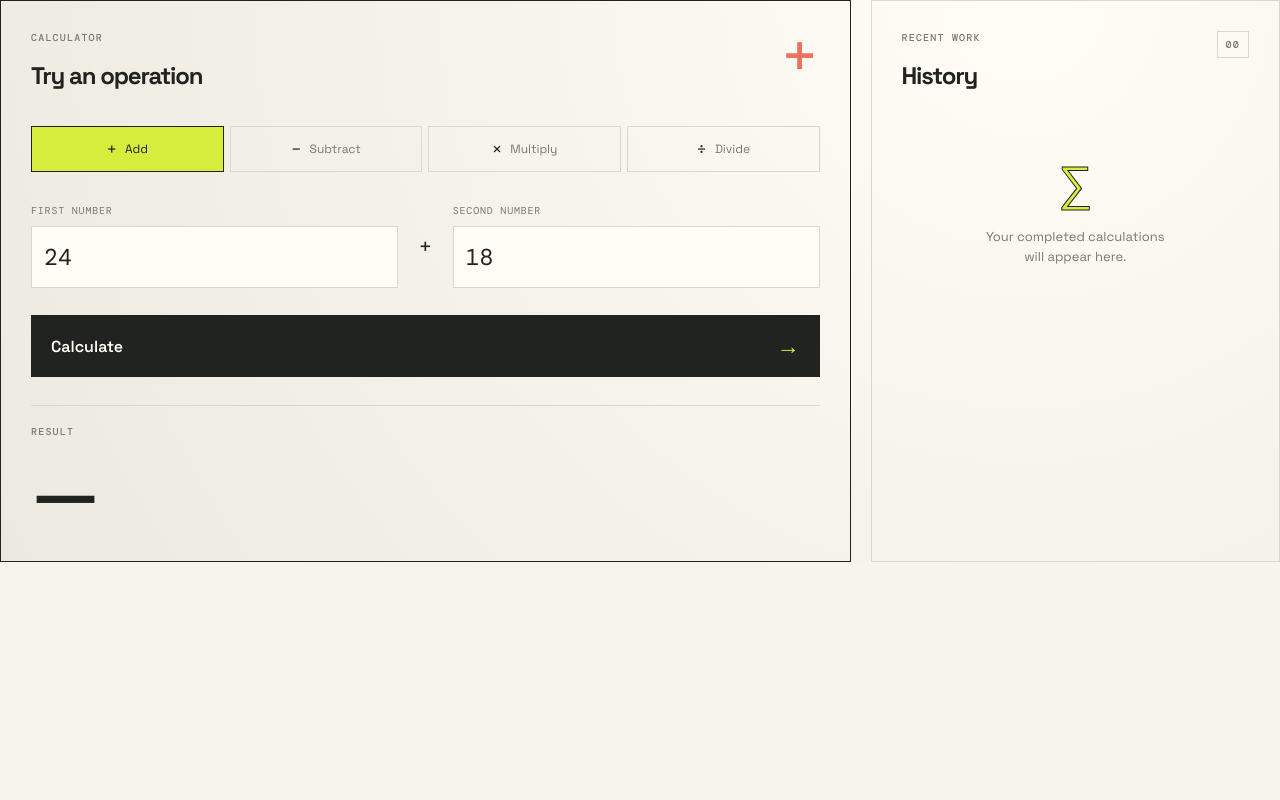
Test: Calculator › calculates multiplication successfully
This screenshot has width=1280, height=800.
Step 1. Click the tab "× Multiply" → (525, 149), box [428, 126, 621, 172]
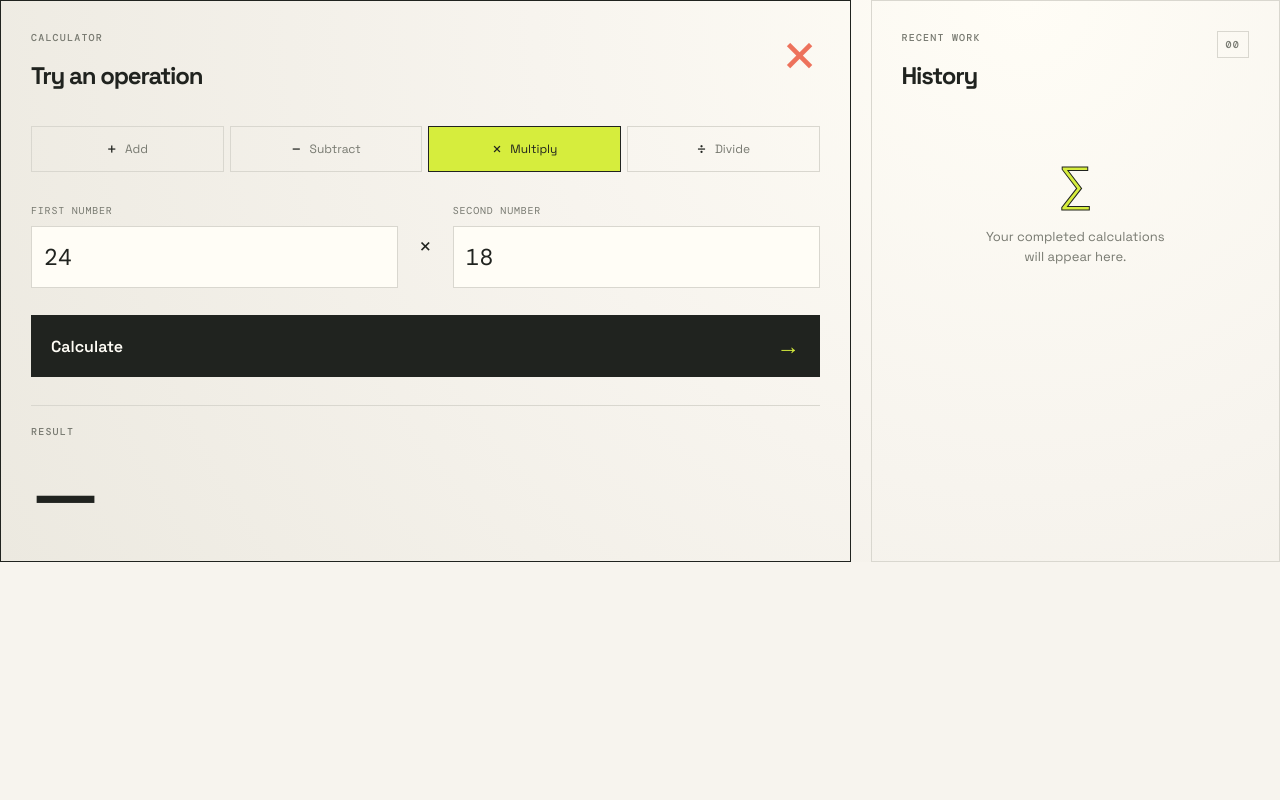
Step 2. Replace the text in the field labelled "First number" with "4" → (214, 257), box [31, 226, 398, 288]
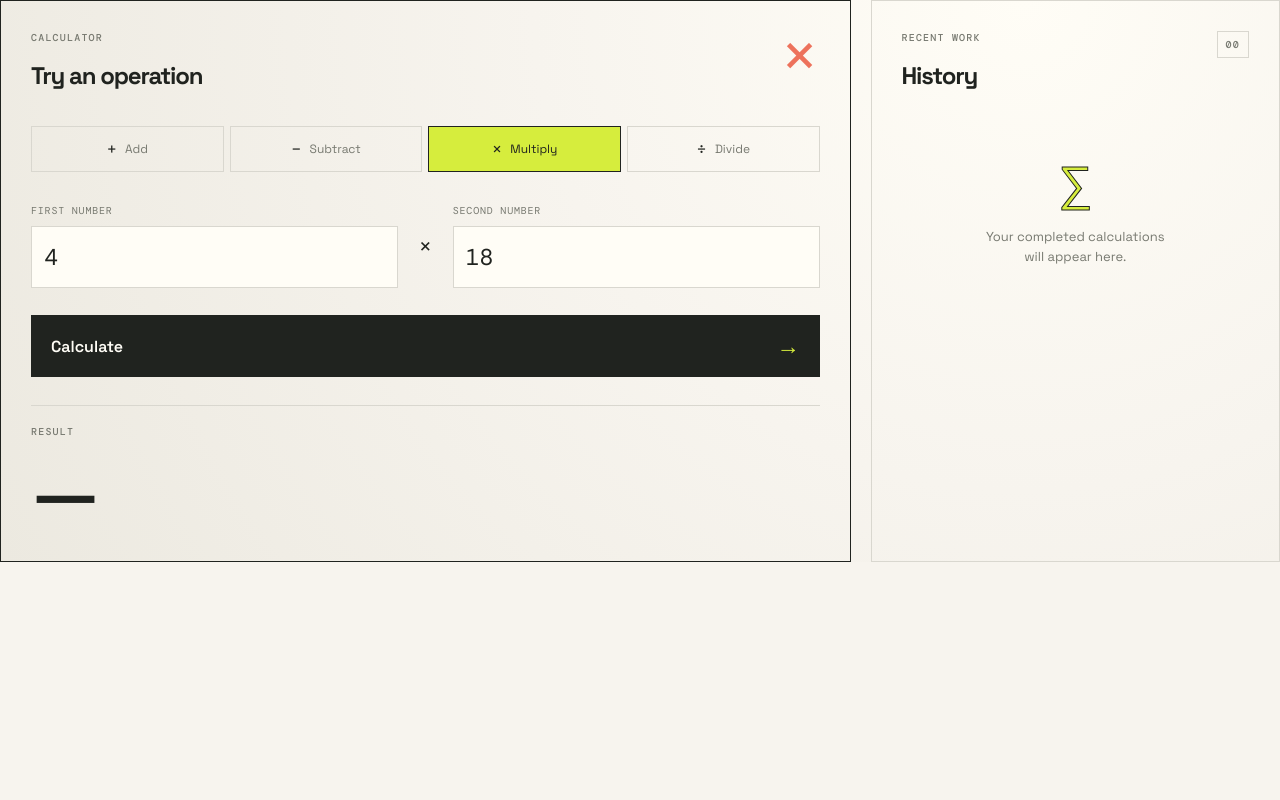
Step 3. Replace the text in the field labelled "Second number" with "3" → (636, 257), box [453, 226, 820, 288]
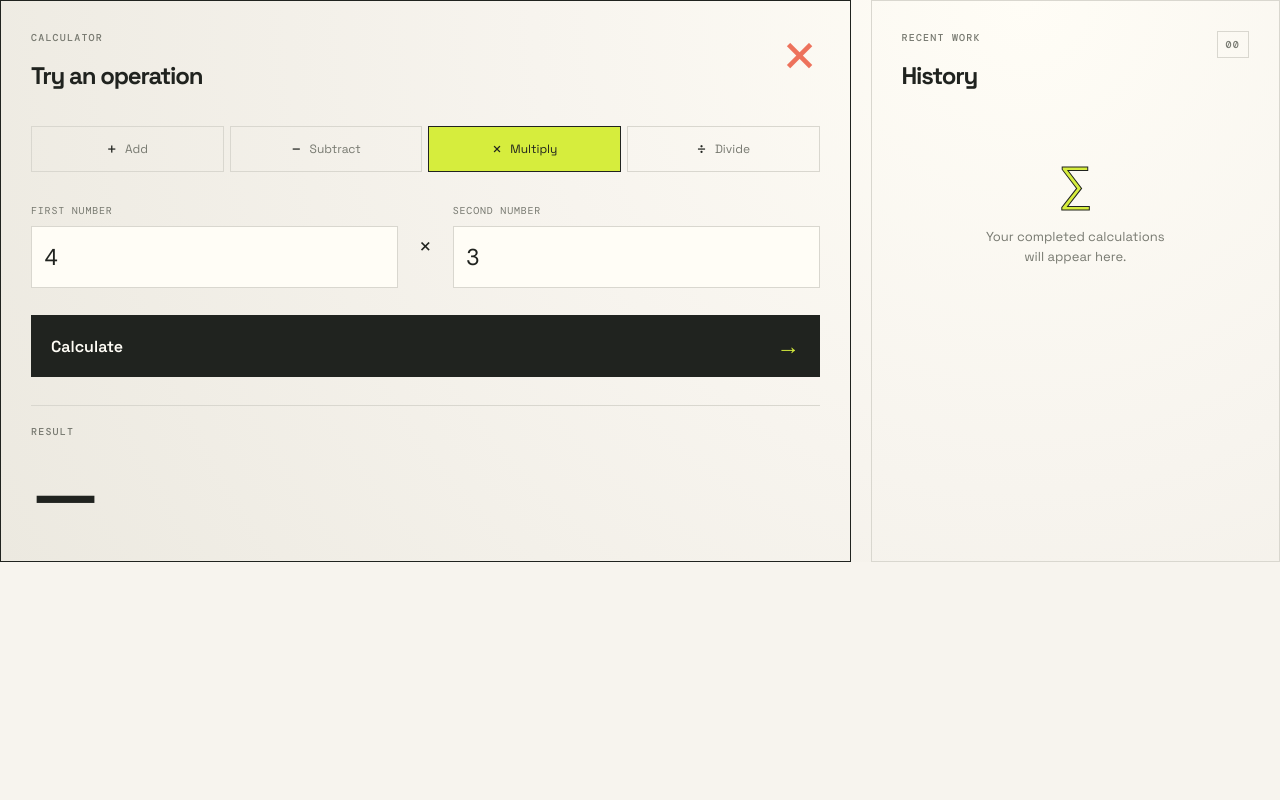
Step 4. Click the button "Calculate →" → (87, 346), box [31, 315, 820, 377]
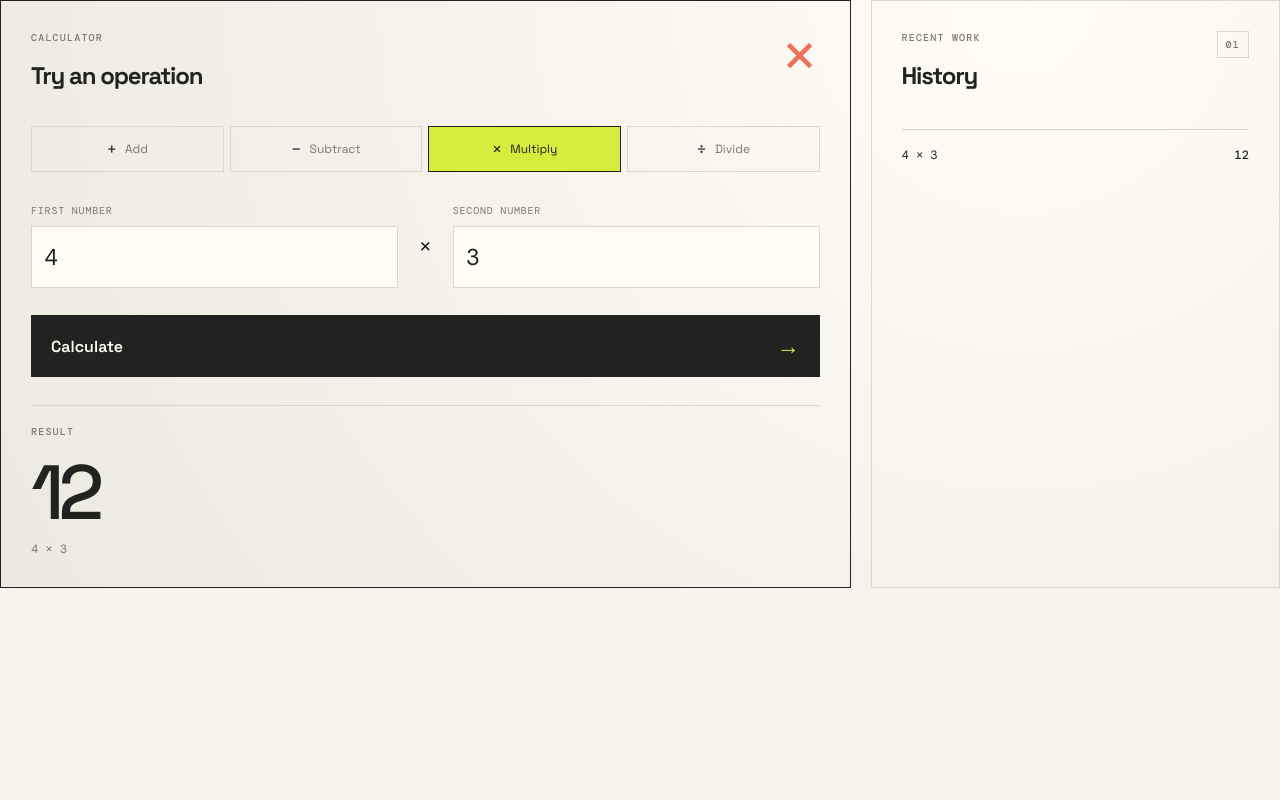
Now the text "12" below "Result" is shown, box [31, 443, 98, 541]
